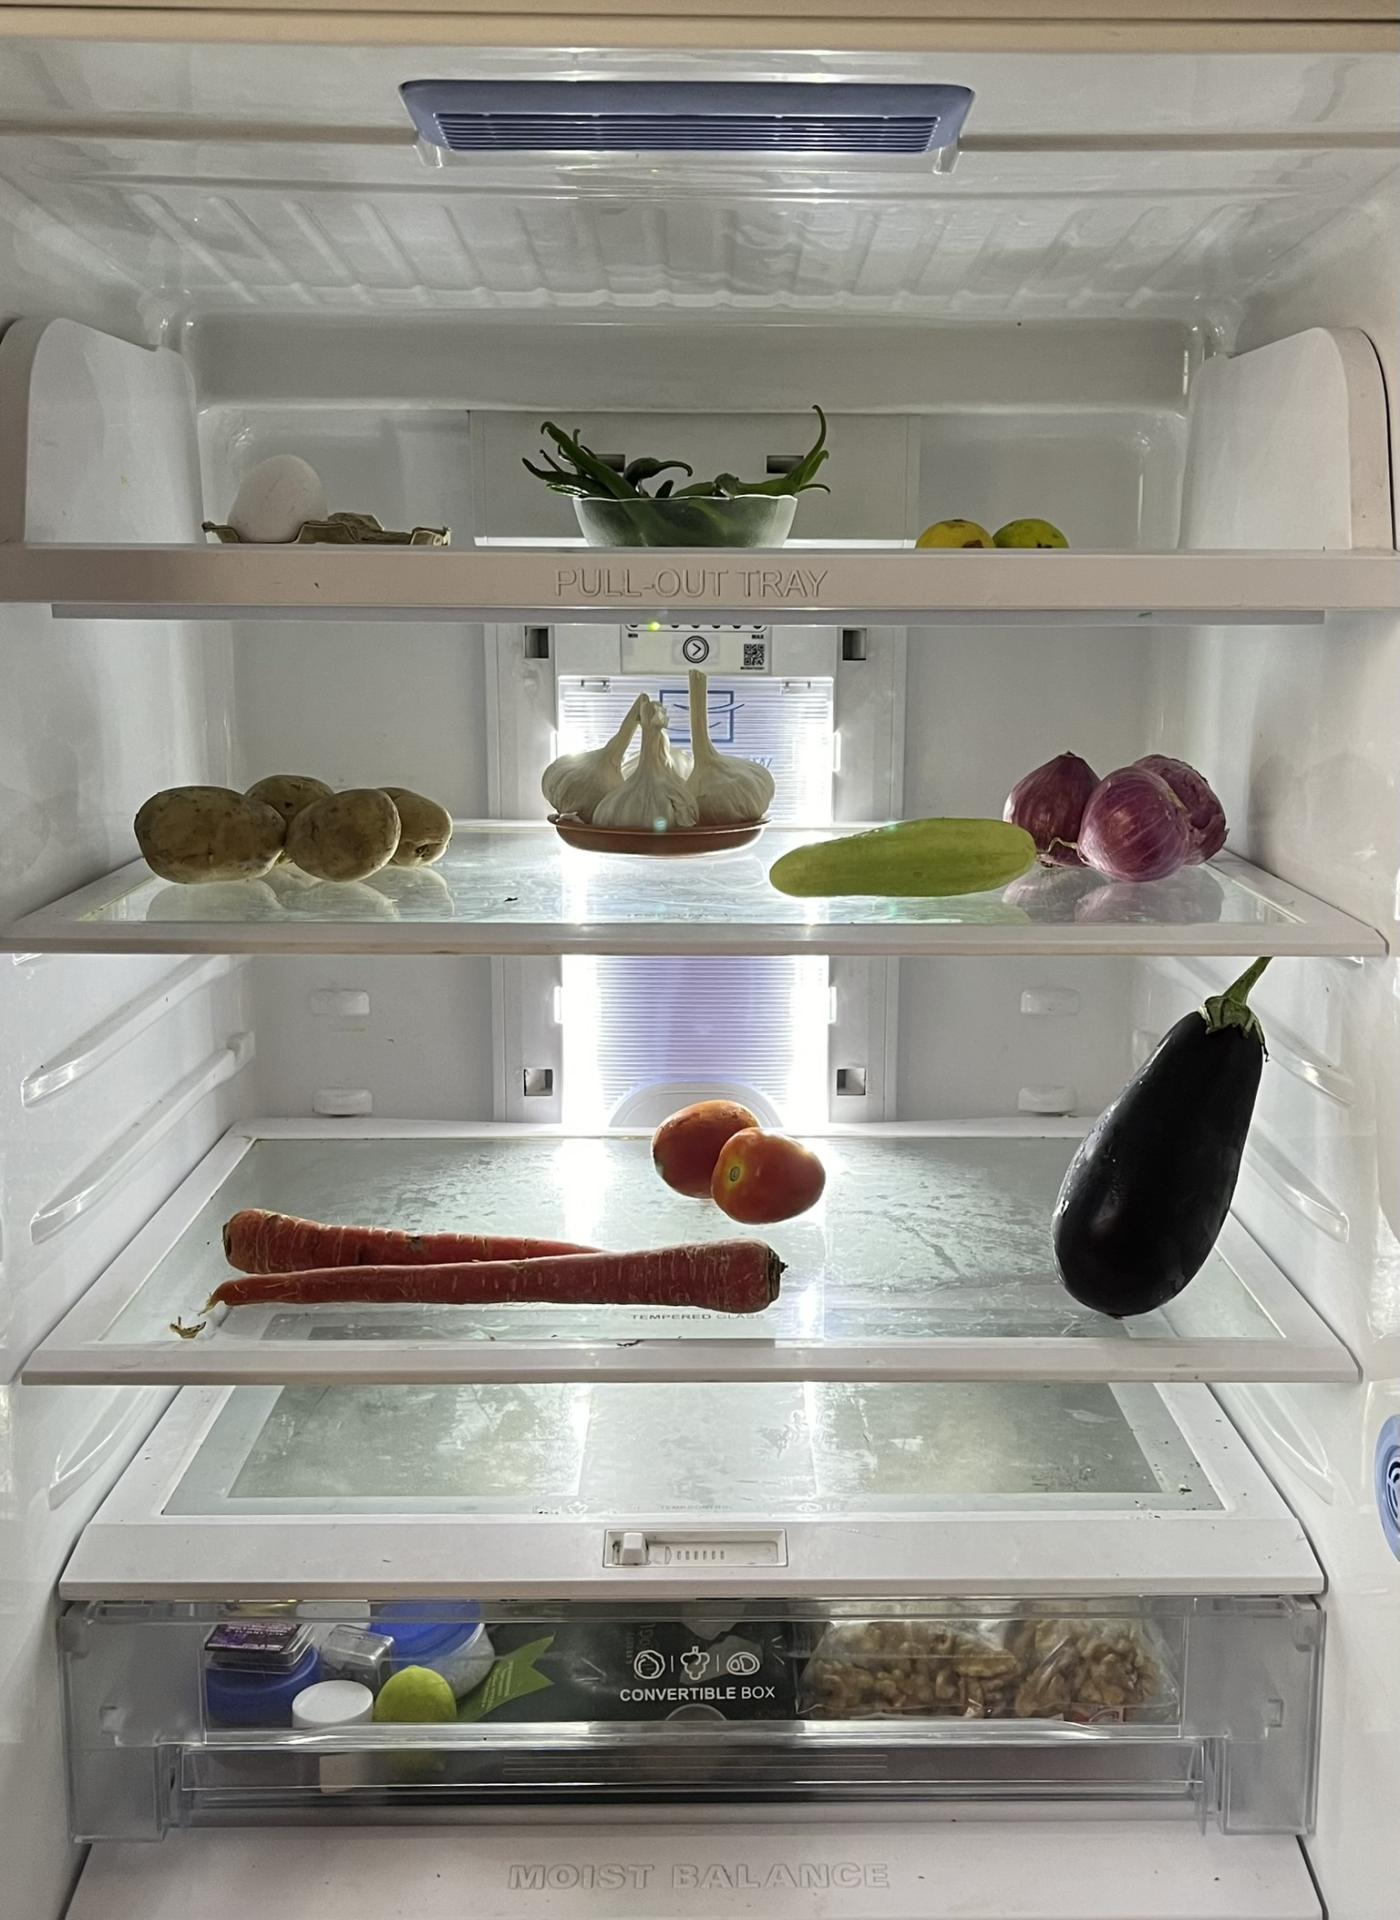brinjal: (1048, 945, 1281, 1321)
carrots: (189, 1219, 804, 1331), (652, 1099, 836, 1218)
chillies: (546, 410, 832, 535)
cucumber: (766, 814, 1033, 902)
egg: (228, 459, 325, 538)
garlic: (541, 666, 771, 833)
lemon: (923, 513, 1072, 547)
onion: (1005, 750, 1227, 881)
potato: (134, 768, 459, 888)
